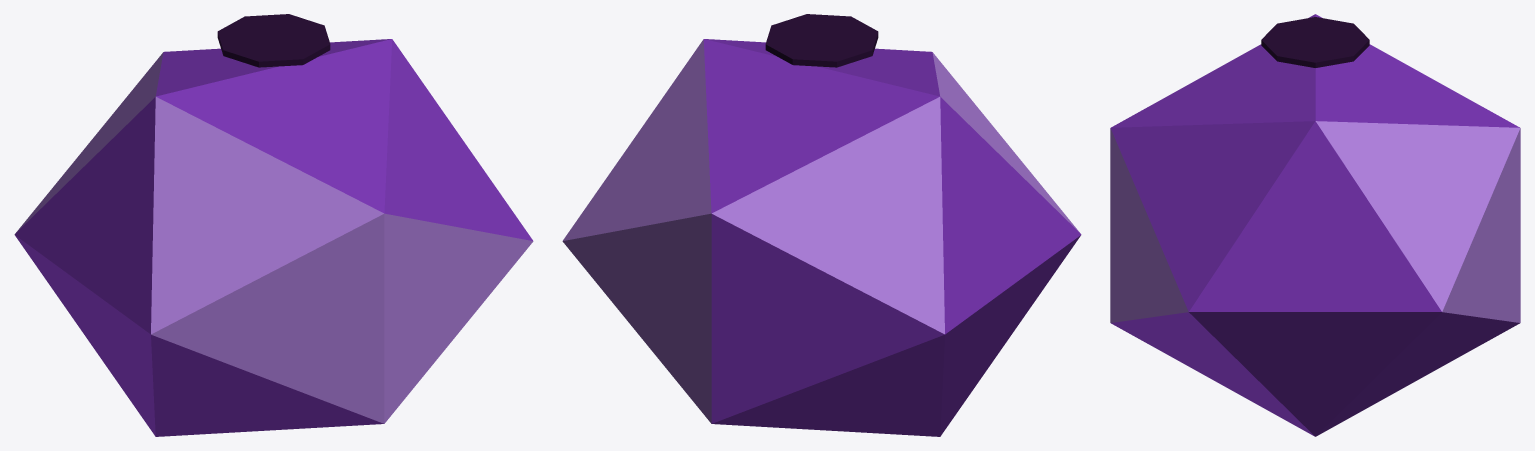
The model's file is curios-bead.glb.
The picture shows the model from 3 angles, left to right: view 1: azimuth 30°, elevation 25°; view 2: azimuth 150°, elevation 25°; view 3: azimuth 270°, elevation 25°; orthographic projection. The views are drawn at different scales.
Size of the model in its own units: 1.36 by 1.26 by 1.36.
